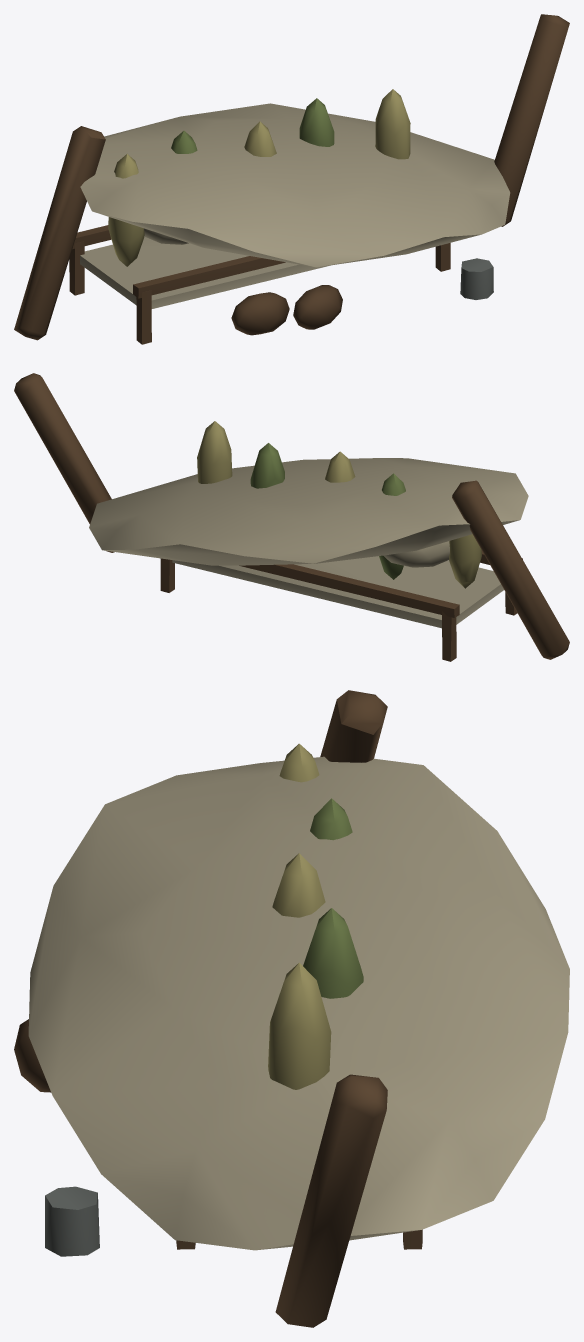
Rendered from bunk_cots_c_lod1.glb.
The picture shows the model from 3 angles, top to bottom: view 1: azimuth 30°, elevation 25°; view 2: azimuth 150°, elevation 25°; view 3: azimuth 270°, elevation 25°; orthographic projection. The views are drawn at different scales.
Parts seen in each view (by area): view 1: Surface.001; view 2: Surface.001; view 3: Surface.001.
Part boxes in pixels (x1,y1,x2,y2): Surface.001: (14,14,569,344); Surface.001: (14,373,569,661); Surface.001: (14,690,569,1327).
Bounding box in the file's own units: 3.4 × 1.05 × 1.72.
